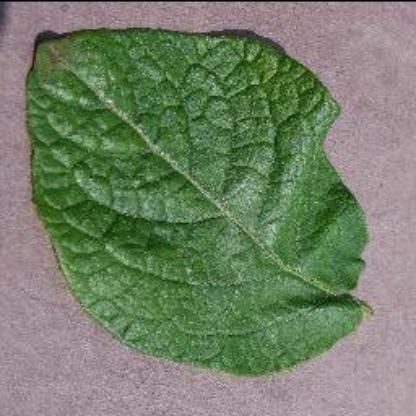Healthy-plant: (20, 20, 384, 376)
